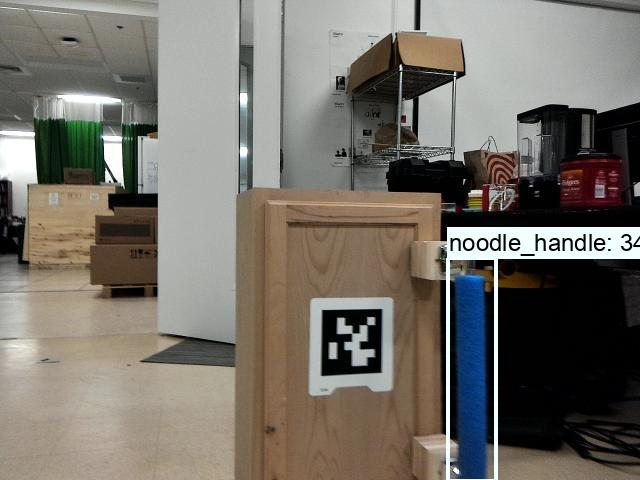noodle_handle: (451, 263, 494, 480)
